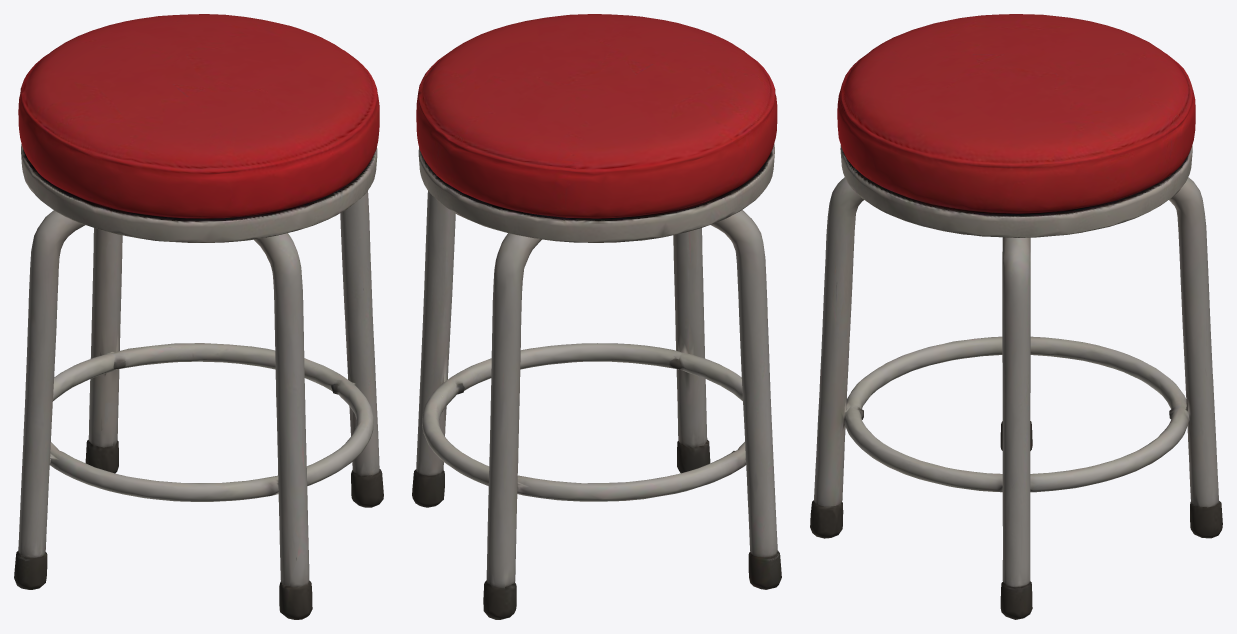
The model's file is isu.glb.
3 views of the same model, side by side, from view 1: azimuth 30°, elevation 25°; view 2: azimuth 150°, elevation 25°; view 3: azimuth 270°, elevation 25° (orthographic).
Visible parts, largest first — view 1: tripo_node_17dc1833-4b57-4915-a030-06843d3d4f8d; view 2: tripo_node_17dc1833-4b57-4915-a030-06843d3d4f8d; view 3: tripo_node_17dc1833-4b57-4915-a030-06843d3d4f8d.
Boxes of the visible parts, x1,y1,x2,y2 form: tripo_node_17dc1833-4b57-4915-a030-06843d3d4f8d: (14,14,383,619); tripo_node_17dc1833-4b57-4915-a030-06843d3d4f8d: (412,14,781,619); tripo_node_17dc1833-4b57-4915-a030-06843d3d4f8d: (810,14,1222,619).
Bounding box in the file's own units: 0.8046 × 1 × 0.8018.
Materials: 1 (1 with a texture image).
